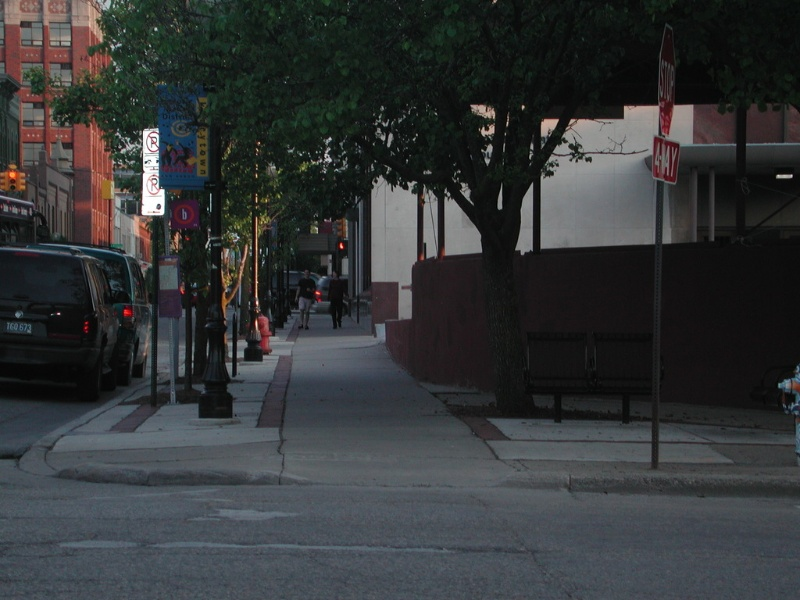no_parking: (144, 170, 162, 196), (144, 129, 161, 154)
